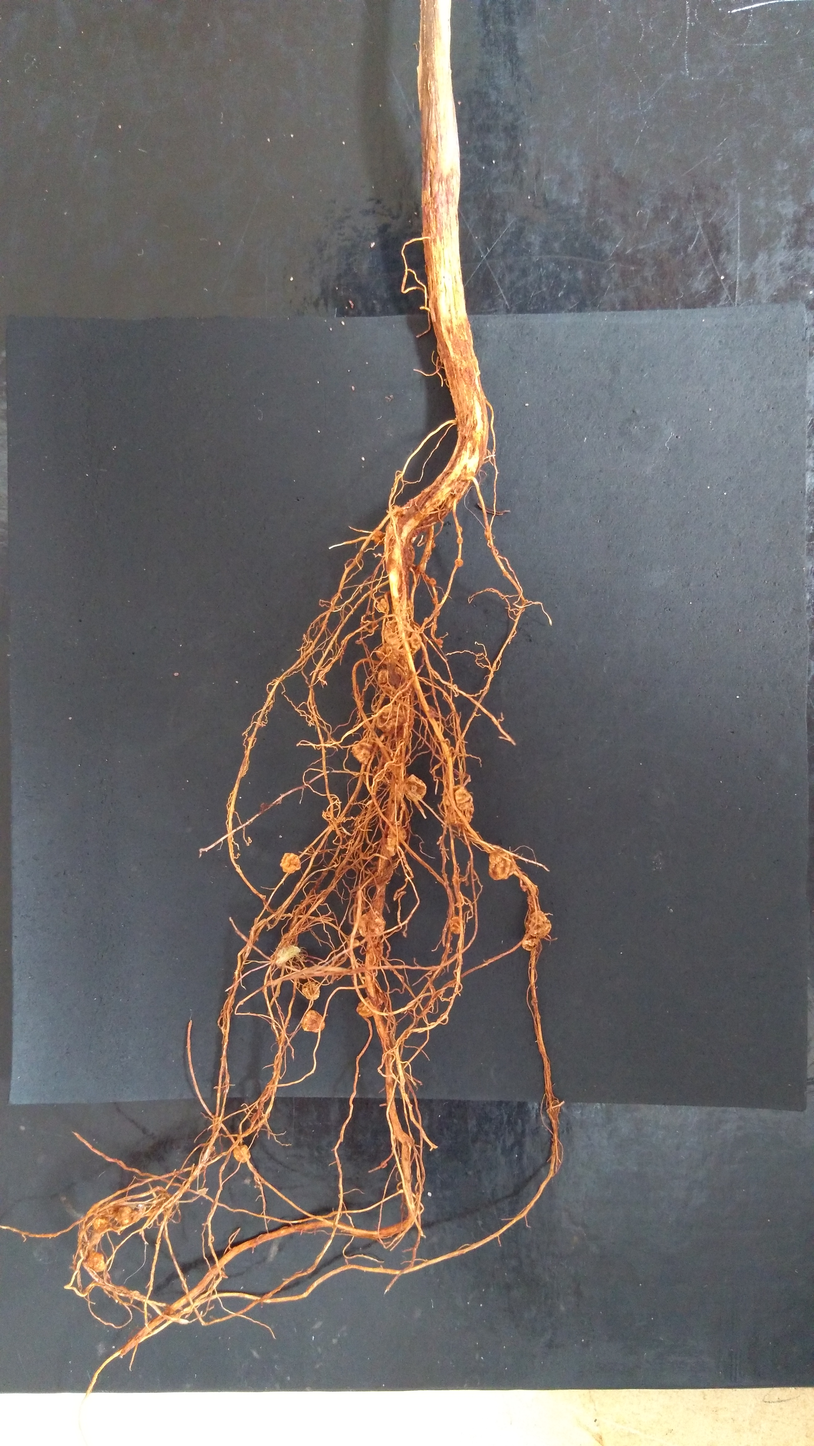nodule: (383, 619, 423, 656), (443, 784, 475, 828), (376, 666, 413, 697), (377, 750, 406, 787), (374, 704, 406, 735), (487, 847, 516, 880), (357, 907, 387, 938), (351, 736, 380, 765), (385, 822, 407, 858), (525, 910, 552, 939), (402, 774, 427, 802), (92, 1202, 112, 1236), (356, 995, 385, 1018), (276, 944, 301, 970), (375, 642, 402, 664), (301, 1009, 326, 1032), (85, 1248, 107, 1272), (279, 853, 302, 874), (114, 1203, 134, 1227), (232, 1144, 251, 1164), (302, 981, 320, 1000), (449, 916, 466, 935), (522, 937, 542, 951), (405, 543, 415, 568), (371, 765, 381, 788), (392, 504, 405, 519), (526, 894, 539, 908), (376, 598, 388, 613), (373, 530, 384, 546), (135, 1203, 147, 1217), (346, 938, 360, 948), (258, 802, 270, 811), (379, 1159, 388, 1170), (358, 851, 369, 860), (427, 577, 437, 586), (454, 558, 463, 567), (432, 608, 441, 617), (376, 942, 384, 951), (484, 529, 491, 539), (435, 638, 444, 645), (456, 536, 463, 545), (455, 526, 463, 533), (431, 597, 438, 605), (521, 884, 527, 892), (430, 542, 436, 549), (502, 571, 509, 577), (354, 639, 362, 644), (366, 610, 372, 616), (424, 617, 429, 623)
